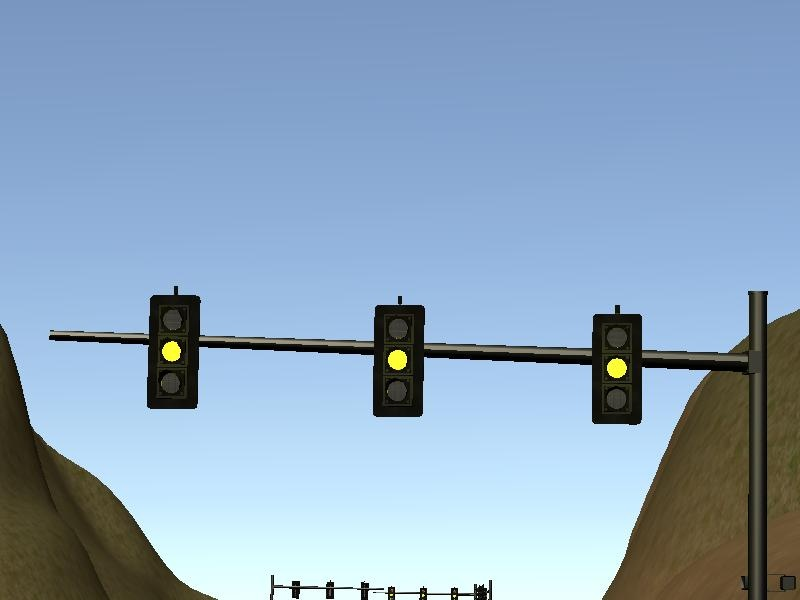YELLOW: (591, 305, 648, 429), (369, 295, 426, 419), (144, 286, 201, 410)
